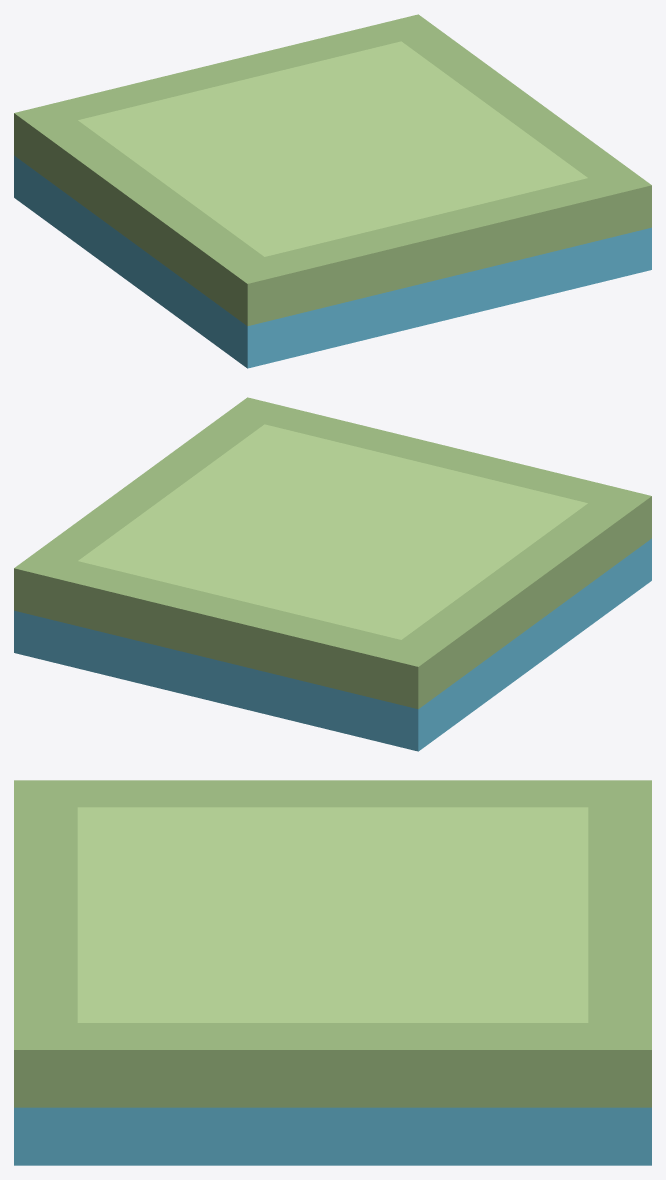
File: platform2.obj
The picture shows the model from 3 angles, top to bottom: view 1: azimuth 30°, elevation 25°; view 2: azimuth 150°, elevation 25°; view 3: azimuth 270°, elevation 25°; orthographic projection. The views are drawn at different scales.
Bounding box in the file's own units: 10 × 2 × 10.
